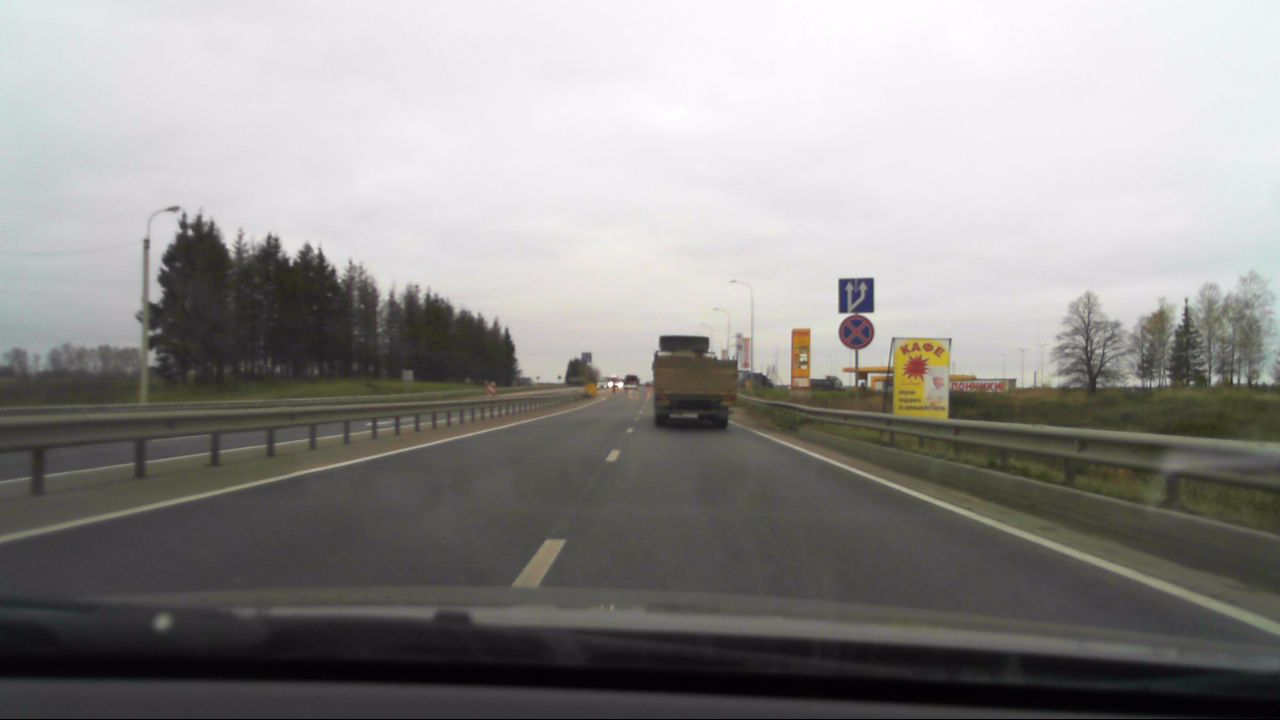No Parking: (839, 316, 875, 349)
